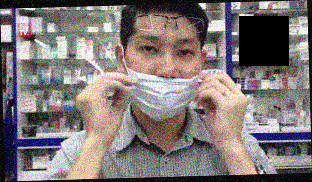mask_weared_incorrect: (124, 32, 204, 123)
